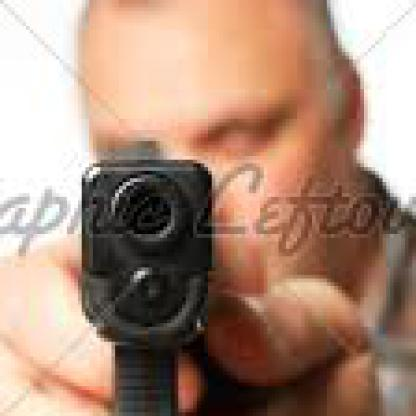gun: (63, 149, 245, 412)
